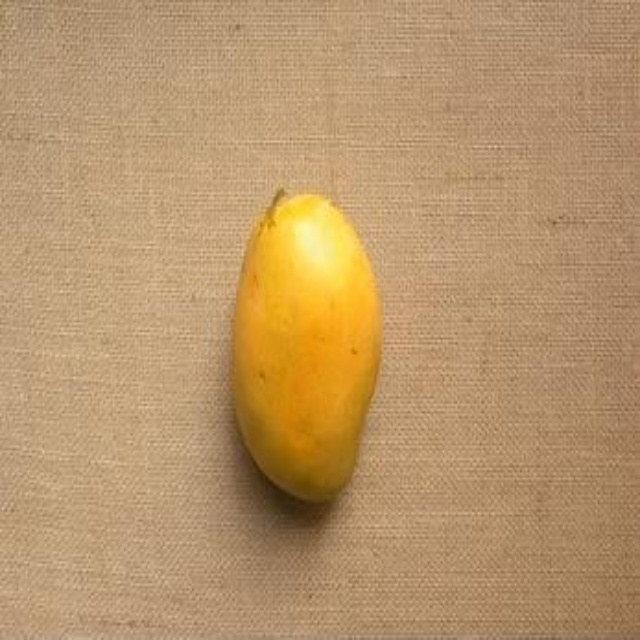mango: (236, 190, 381, 514)
